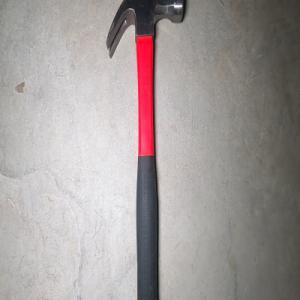Hammer: (105, 0, 184, 300)
